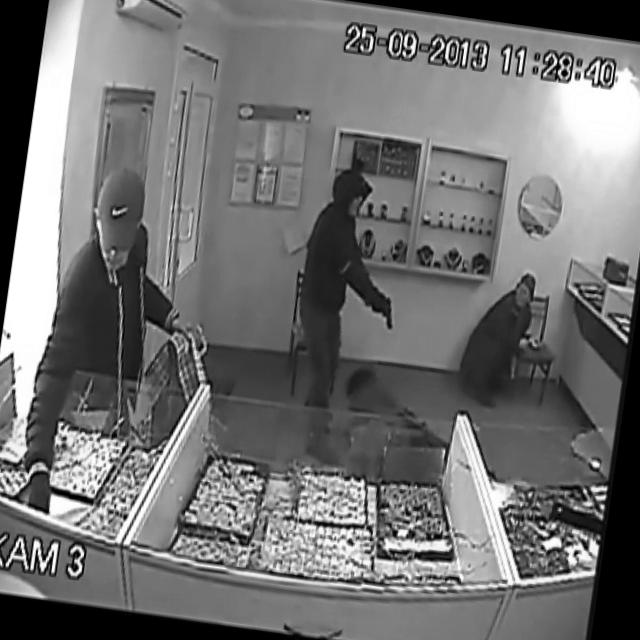gun: (358, 257, 414, 357)
person: (36, 176, 187, 334), (441, 246, 553, 424)
person with a gun: (266, 153, 432, 424)
